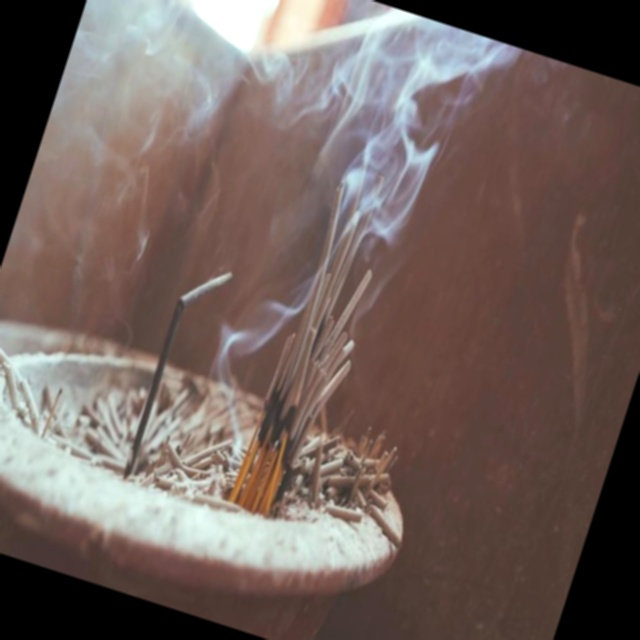smoke: (252, 0, 508, 345)
